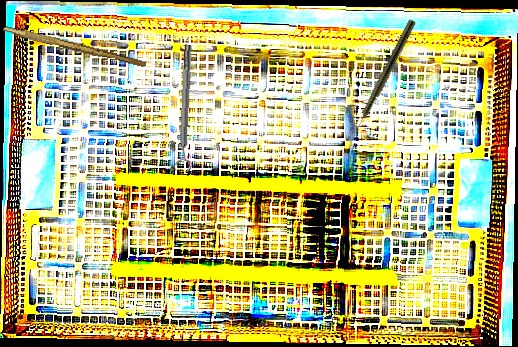Fixation Ring: (172, 44, 199, 172)
Handpiece: (349, 17, 417, 139)
Scalpel Handle: (1, 25, 148, 69)
